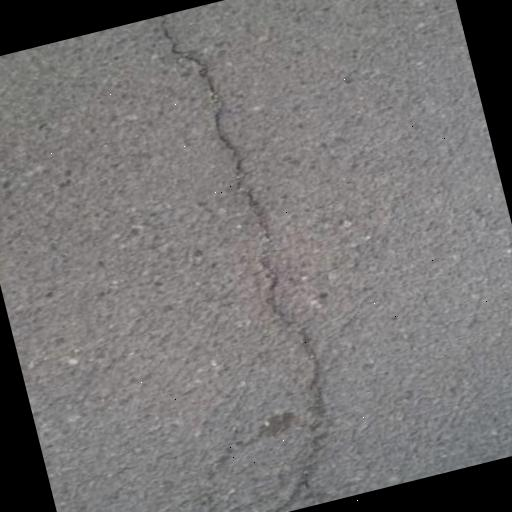spalling: (141, 15, 345, 510)
